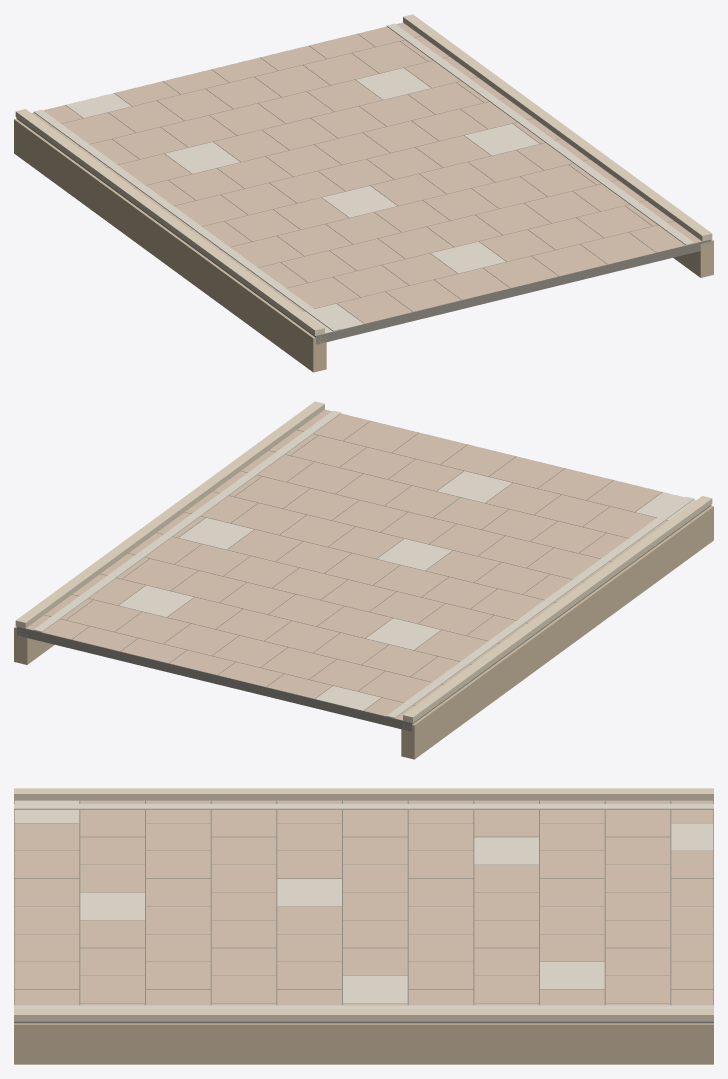
File: Promenade07.glb
3 renders of one model, top to bottom at view 1: azimuth 30°, elevation 25°; view 2: azimuth 150°, elevation 25°; view 3: azimuth 270°, elevation 25°, orthographic. The views are drawn at different scales.
Parts seen in each view (by area): view 1: Promenade07; view 2: Promenade07; view 3: Promenade07.
Part boxes in pixels (box(x1,y1,x2,y2)): Promenade07: box(14, 14, 713, 372); Promenade07: box(14, 401, 713, 759); Promenade07: box(14, 788, 713, 1064).
Size of the model in its own units: 12.76 by 1.27 by 16.52.
